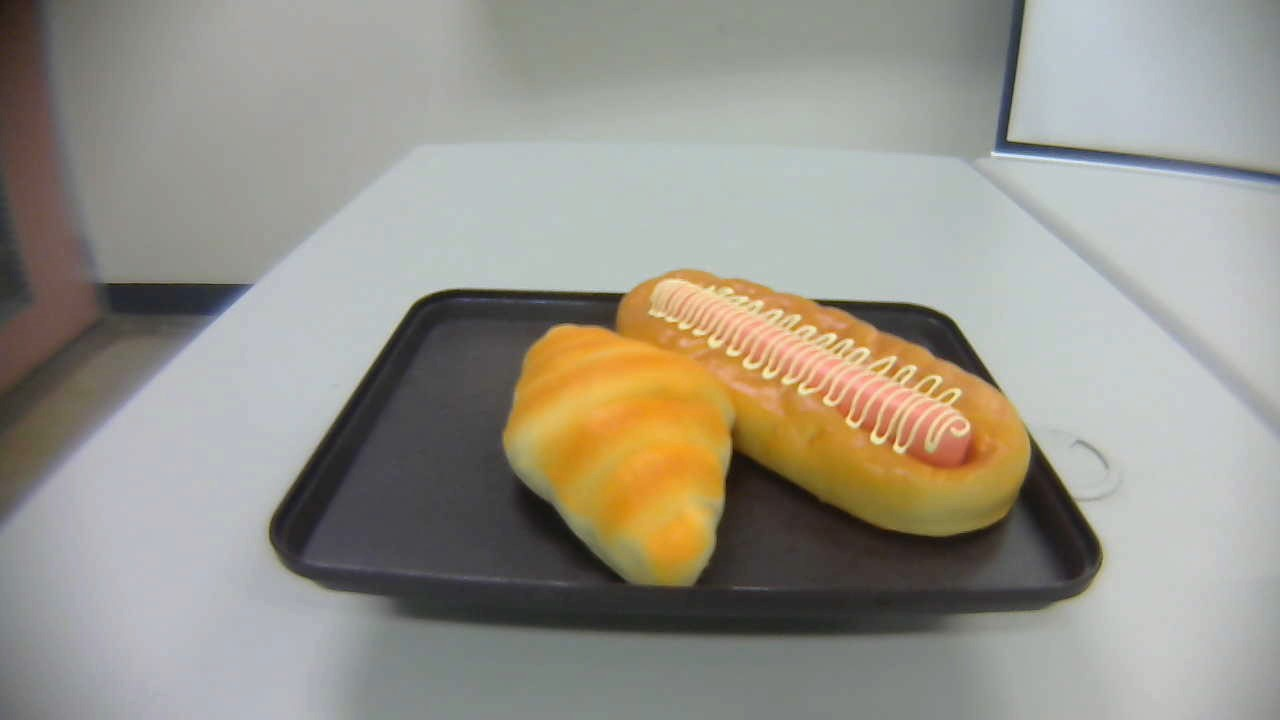croissant: (502, 323, 734, 592)
hot dog: (617, 269, 1031, 541)
